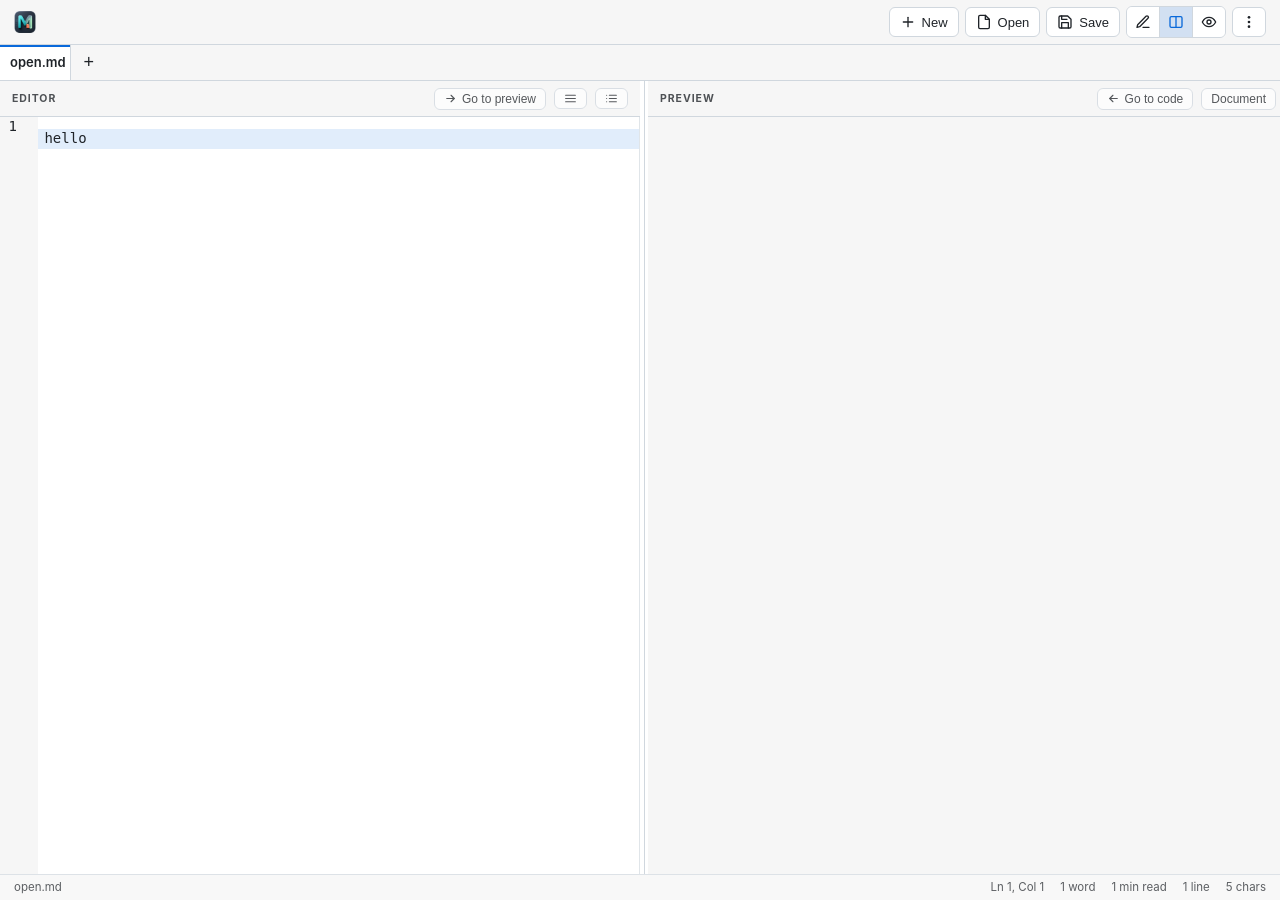
Test: reopening a recent document › still hands over the details when the file is there and something else went wrong
What coordinates should you click on to do the following:
click the button named "more options"
I would click on:
 (1249, 22)
Its box is [1232,7,1266,37].
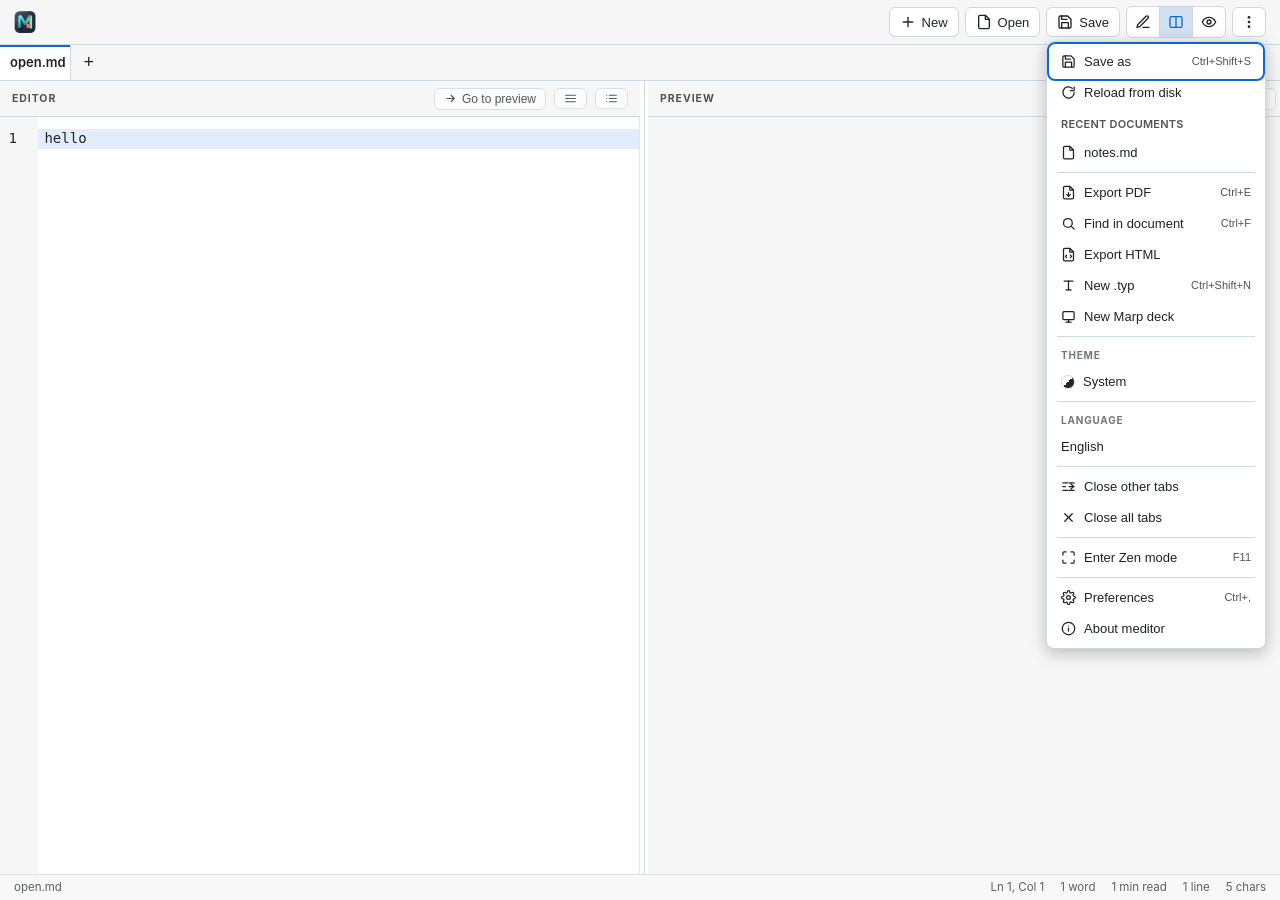
What coordinates should you click on to do the following:
click the menu item with class "menu-recent"
I would click on:
 (1156, 152)
Its box is [1051,136,1261,168].
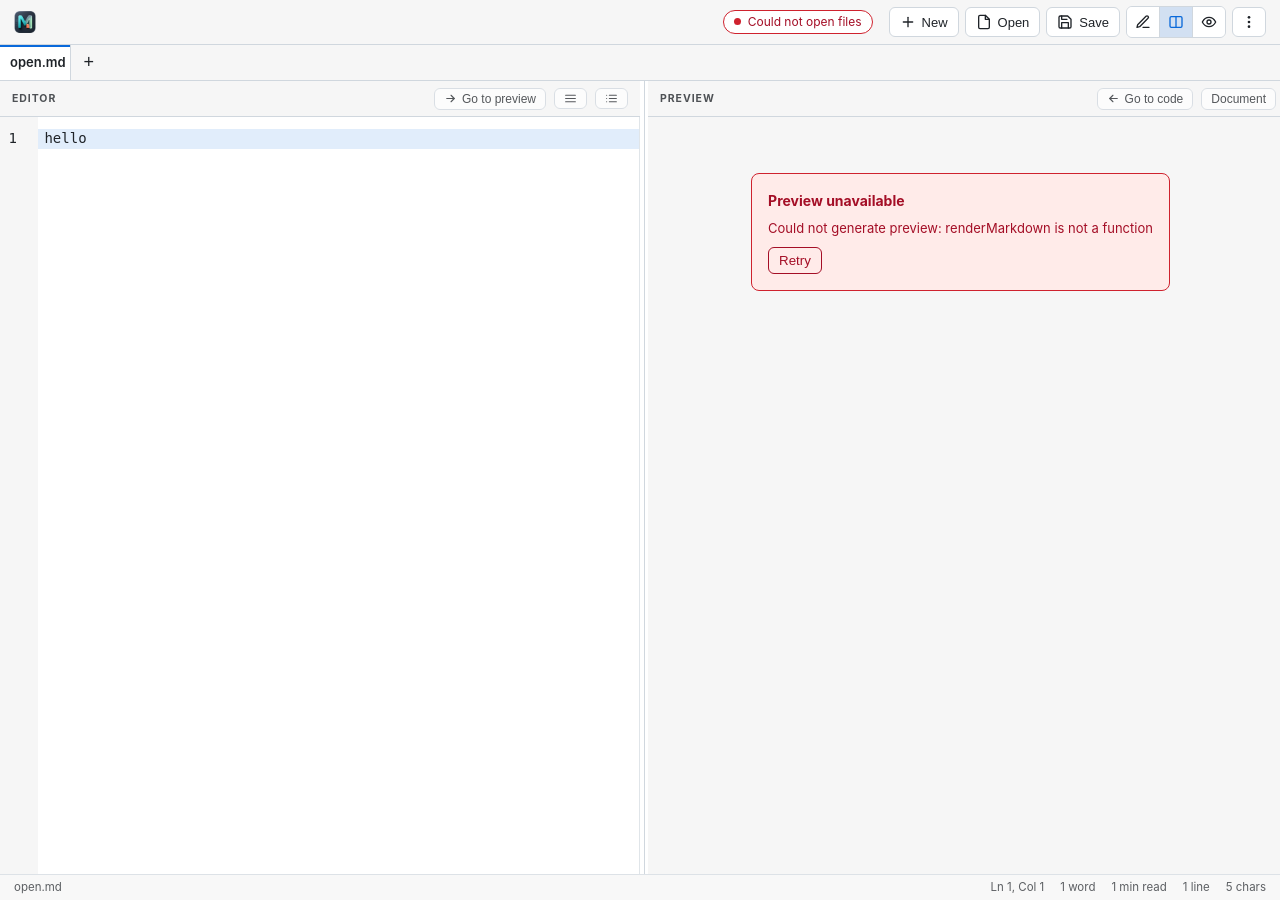
Now the menu item with class "app-notice" no longer shows "notes.md"
